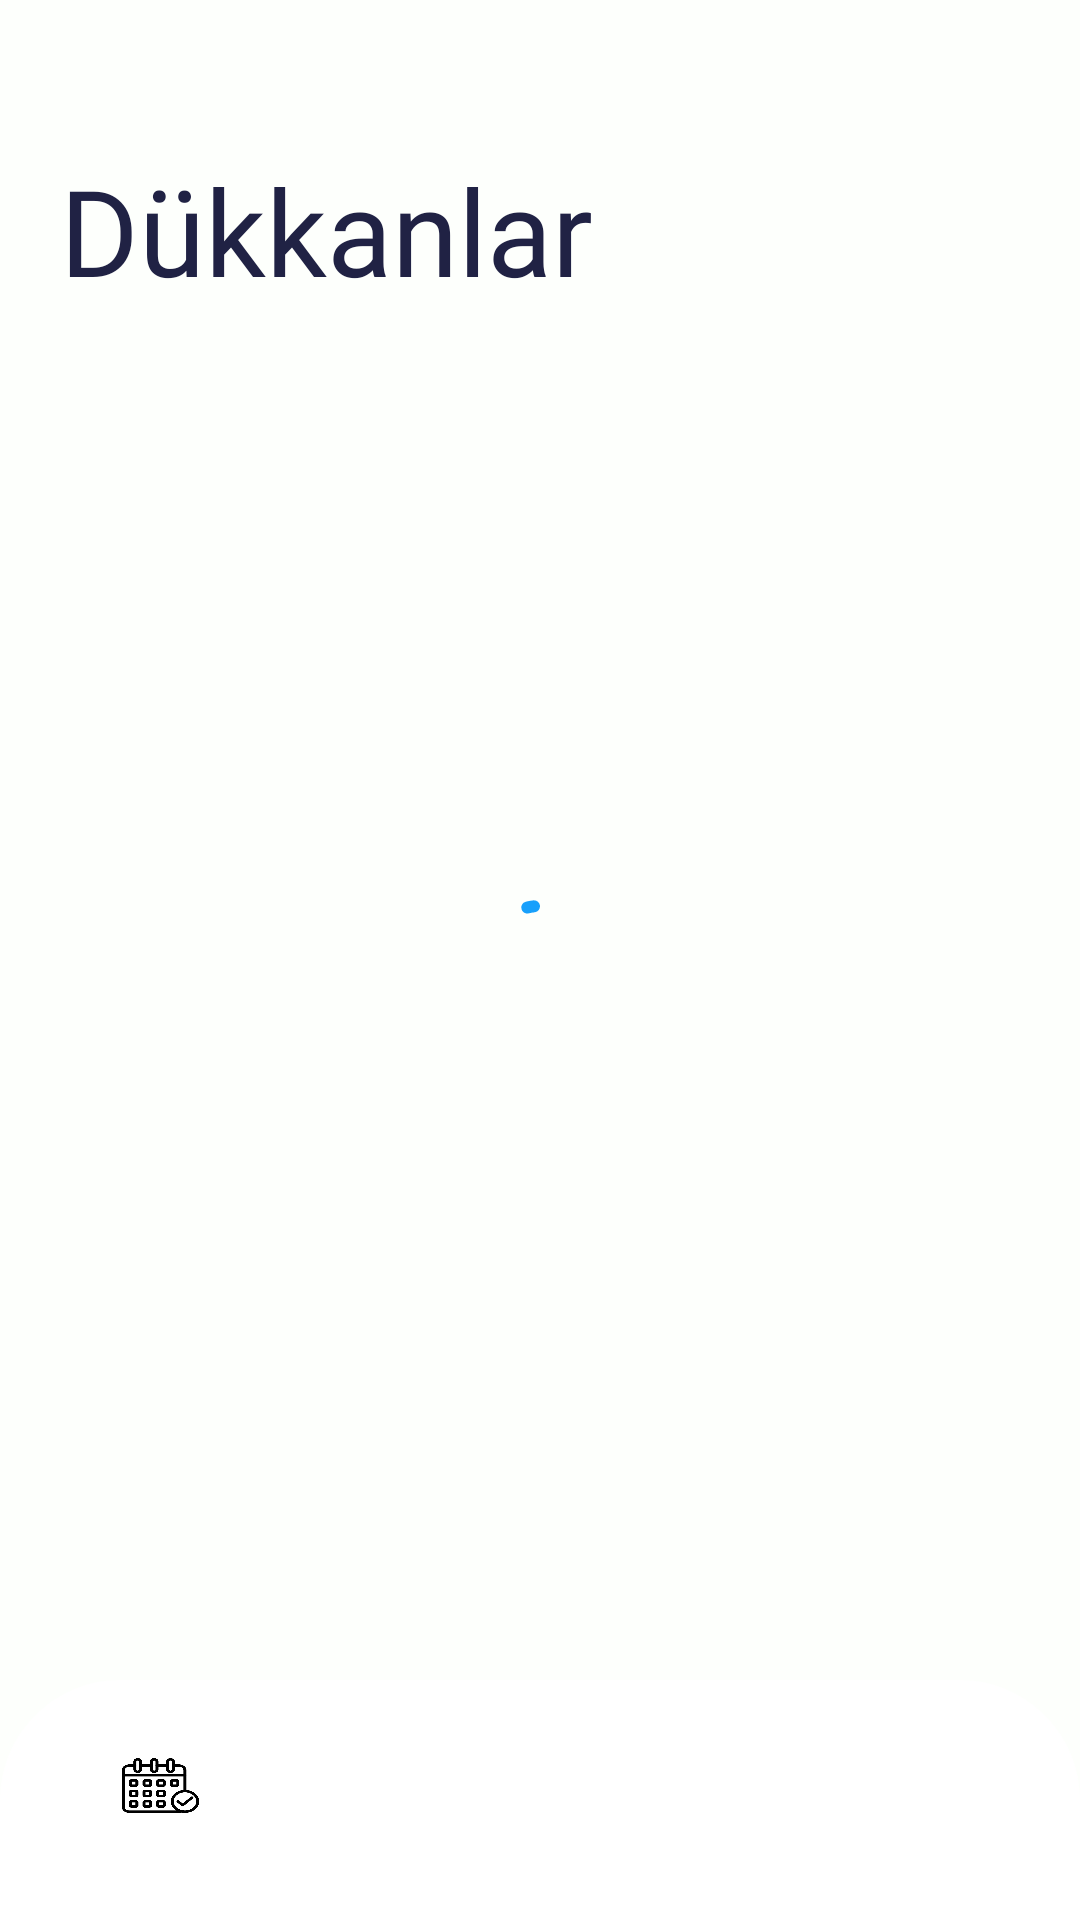

Named icons in this screenshot (1080 × 1920) and their centers, [x,y]:
appoinment: [160,1785]
